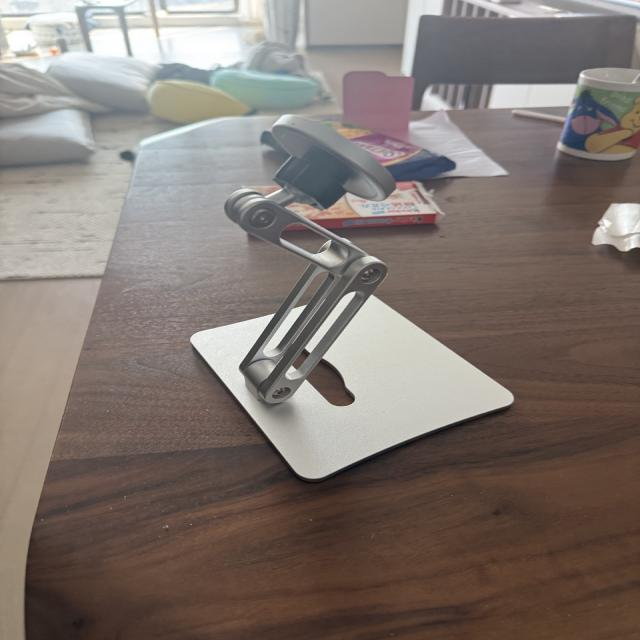phone holder: (183, 110, 520, 490)
